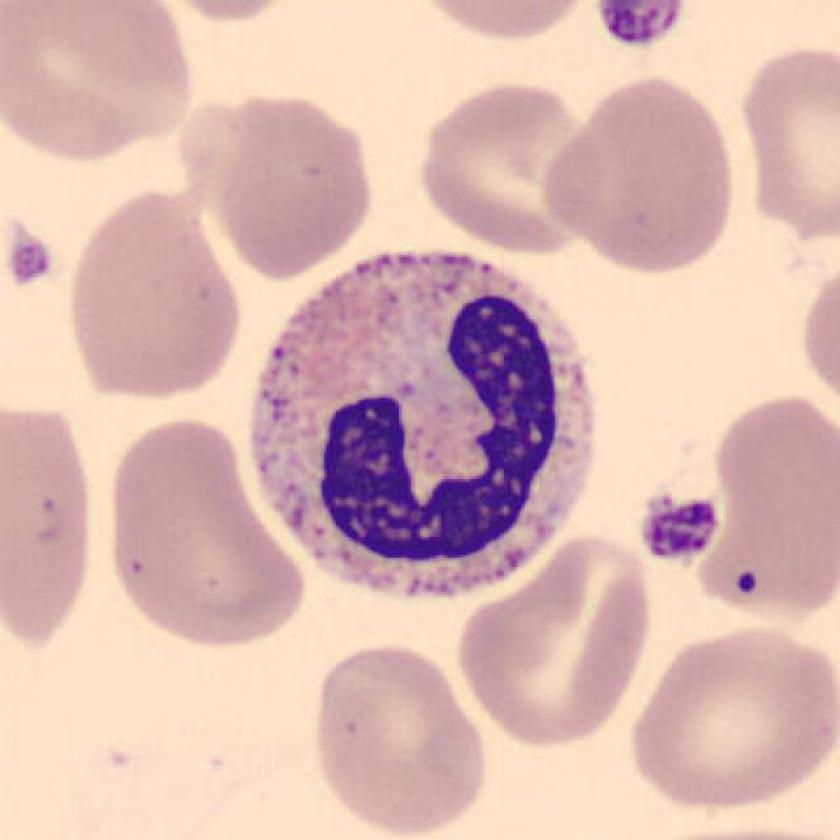neutrophil: (253, 249, 592, 601)
